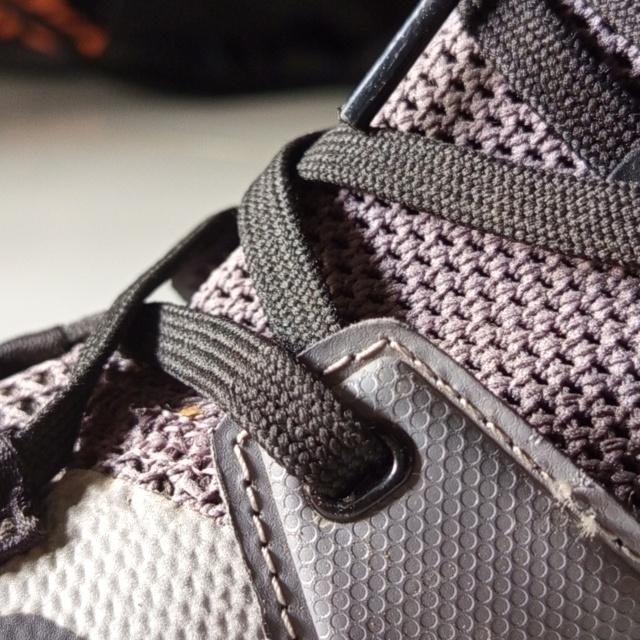broken: (549, 476, 608, 543)
